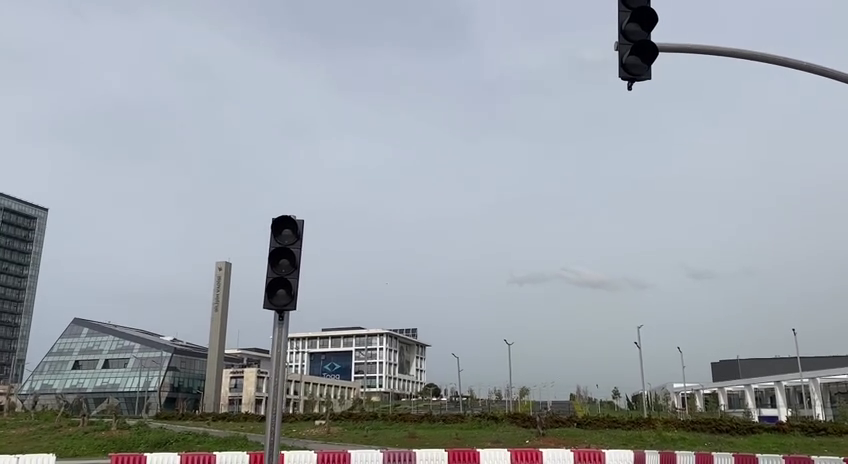trafficLight: (258, 211, 309, 320), (611, 1, 663, 91)
